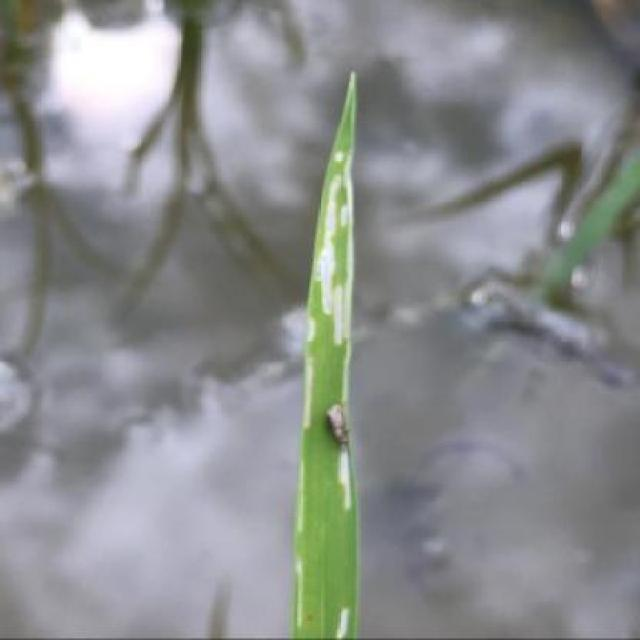rice-bug: (318, 400, 356, 449)
